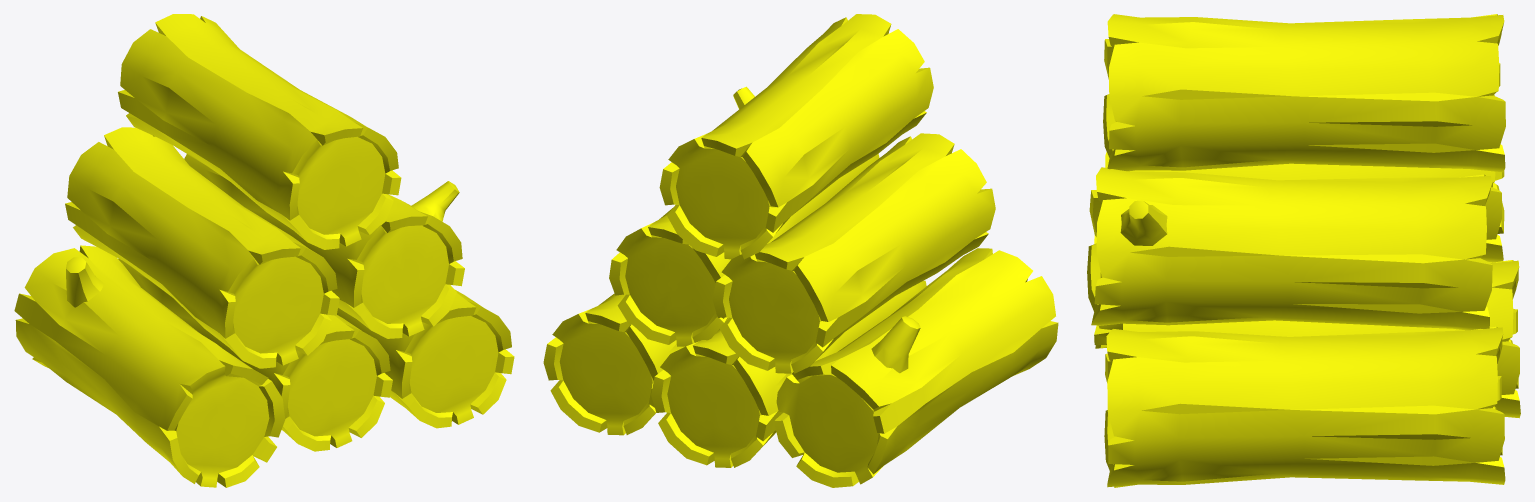
The model's file is kaykit-wood-log-stack.glb.
3 renders of one model, left to right at view 1: azimuth 30°, elevation 25°; view 2: azimuth 150°, elevation 25°; view 3: azimuth 270°, elevation 25°, orthographic. The views are drawn at different scales.
Visible parts, largest first — view 1: Wood_Log_Stack; view 2: Wood_Log_Stack; view 3: Wood_Log_Stack.
Part boxes in pixels (x1=…): Wood_Log_Stack: x1=14, y1=14, x2=514, y2=487; Wood_Log_Stack: x1=543, y1=14, x2=1058, y2=487; Wood_Log_Stack: x1=1087, y1=14, x2=1520, y2=487.
Bounding box in the file's own units: 1.68 × 1.5 × 1.5.
